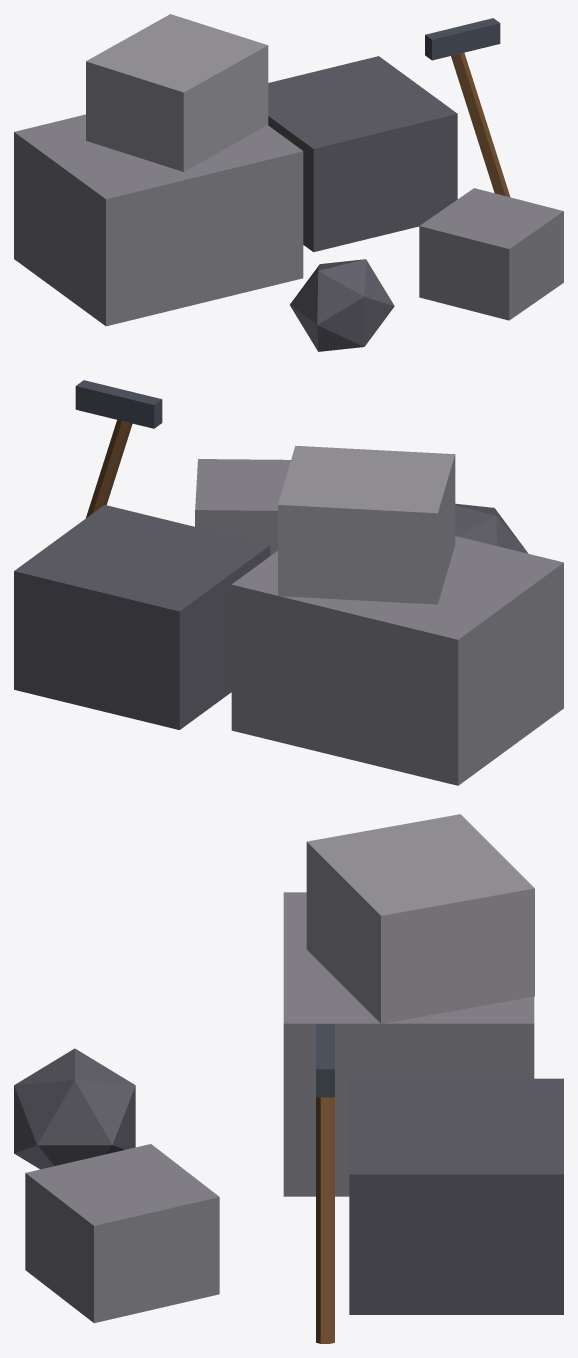
The model's file is stone-quarry.glb.
3 views of the same model, one above another, from view 1: azimuth 30°, elevation 25°; view 2: azimuth 150°, elevation 25°; view 3: azimuth 270°, elevation 25° (orthographic). The views are drawn at different scales.
Parts seen in each view (by area): view 1: stone_quarry; view 2: stone_quarry; view 3: stone_quarry.
Boxes of the visible parts, <box> form: stone_quarry: <box>14,14,563,351</box>; stone_quarry: <box>14,380,563,785</box>; stone_quarry: <box>14,814,563,1343</box>.
Size of the model in its own units: 0.2783 by 0.1315 by 0.2305.
